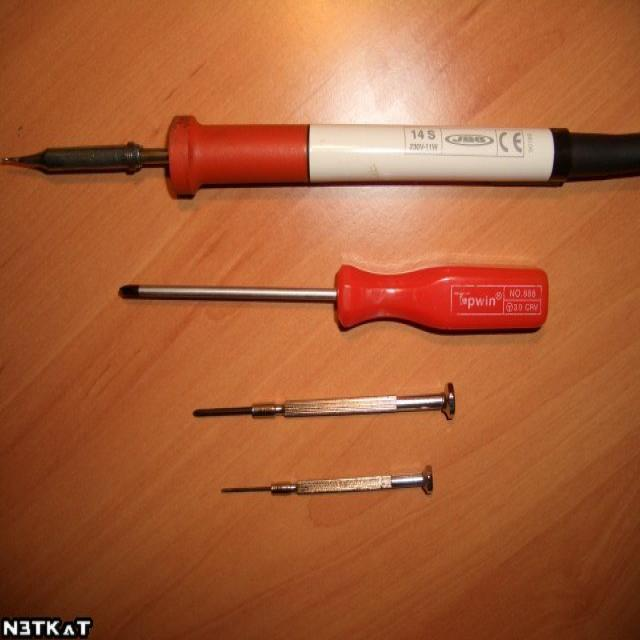screw_driver: (113, 265, 549, 336)
